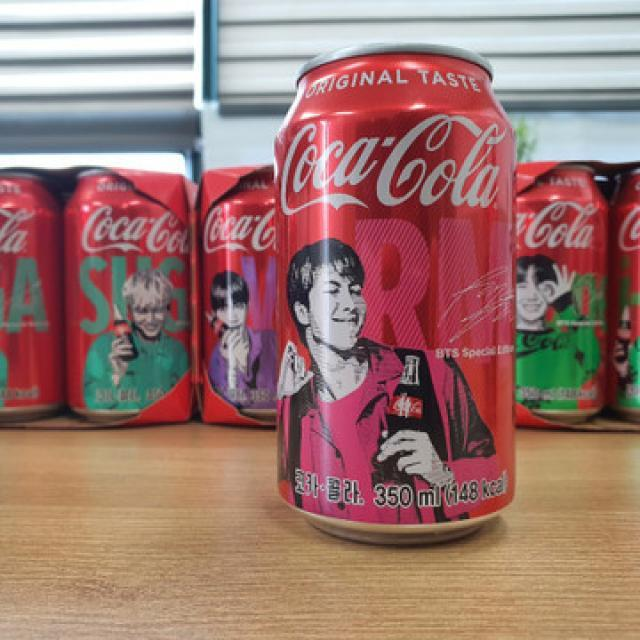coca-cola: (279, 45, 521, 539), (66, 165, 198, 438), (516, 159, 608, 433), (204, 168, 280, 430)
